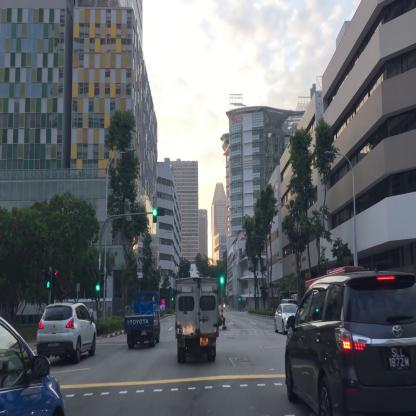green_traffic_light: (152, 209, 164, 215), (96, 274, 100, 291), (221, 268, 223, 284)
